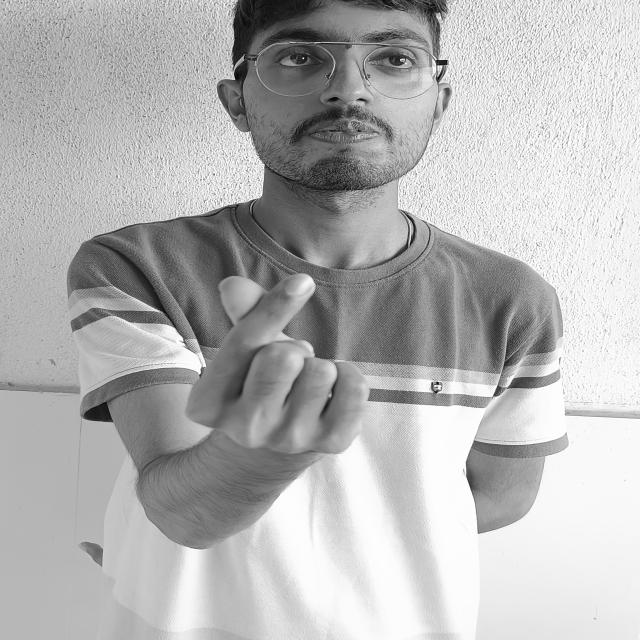Grattitude: (153, 252, 409, 480)
